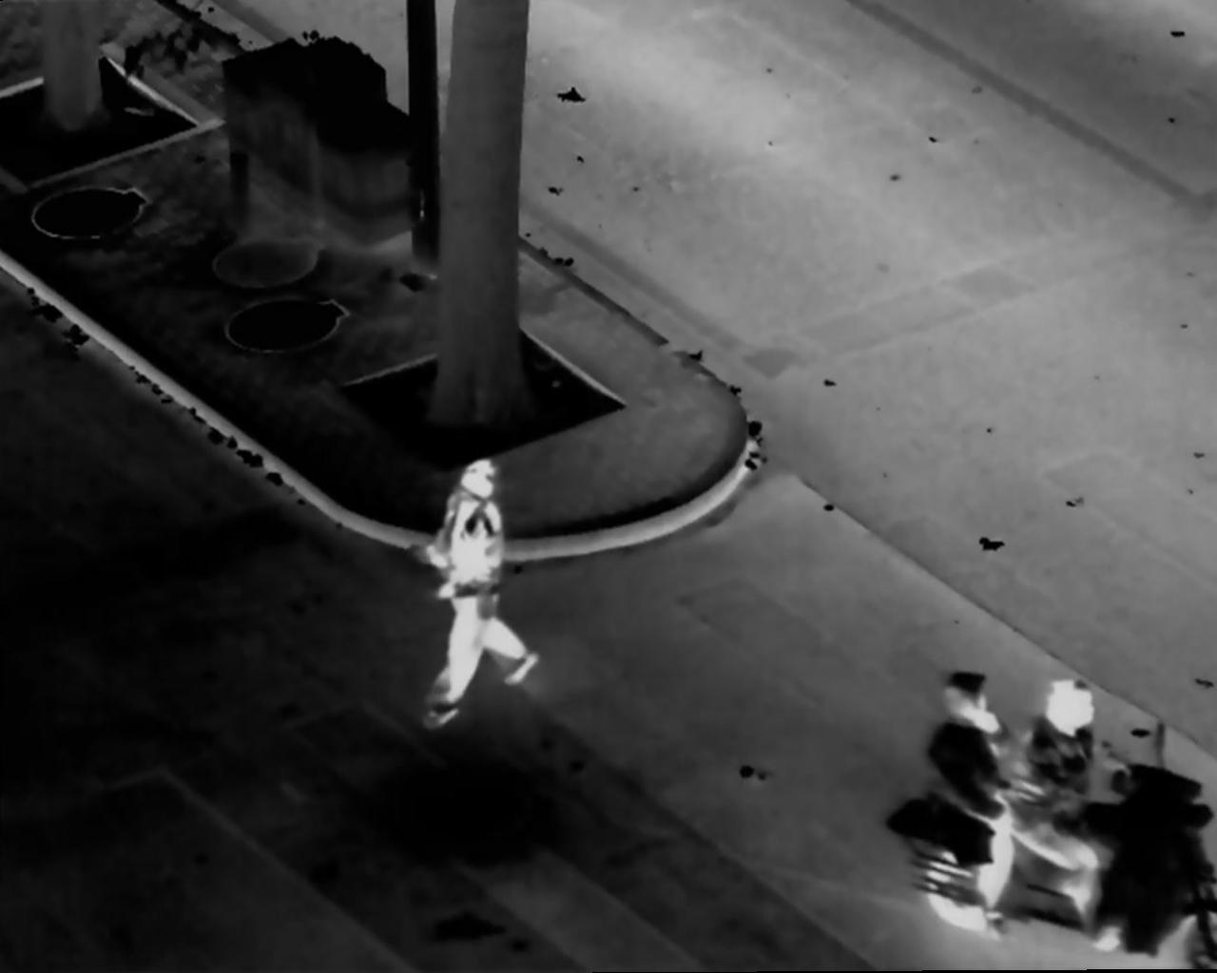person: (408, 451, 555, 730), (1022, 680, 1139, 940), (927, 669, 1014, 948)
